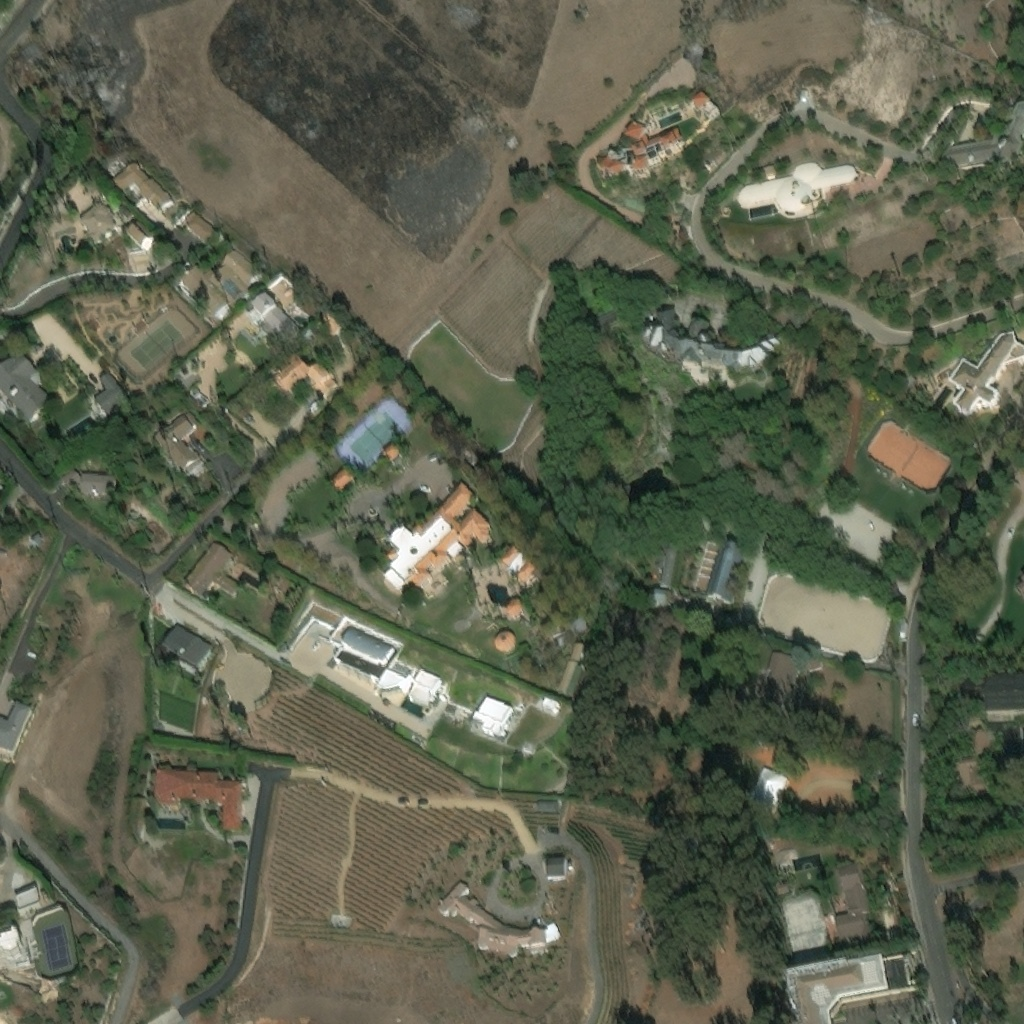0 no-damage: (648, 307, 812, 390), (388, 481, 493, 589), (437, 880, 561, 958), (786, 954, 921, 1023), (190, 533, 295, 613), (171, 246, 262, 328), (735, 161, 860, 220), (863, 414, 953, 492), (946, 329, 1023, 416), (100, 148, 174, 237), (154, 773, 249, 835), (938, 103, 1023, 169), (753, 644, 821, 717), (601, 124, 688, 181), (829, 858, 881, 944), (0, 355, 57, 429), (327, 612, 402, 667), (152, 409, 208, 479), (0, 678, 43, 765), (688, 532, 738, 598), (246, 292, 301, 345), (273, 358, 339, 400), (165, 626, 219, 676), (955, 729, 995, 796), (0, 915, 40, 974), (740, 760, 787, 810), (1002, 728, 1023, 827), (472, 697, 513, 739), (79, 202, 115, 248), (984, 676, 1023, 712), (406, 669, 440, 703), (374, 667, 408, 701), (184, 211, 218, 244), (127, 220, 157, 251), (555, 661, 580, 698), (768, 840, 796, 872), (671, 825, 699, 856), (649, 552, 674, 585), (385, 655, 416, 679), (81, 477, 116, 498), (145, 1003, 181, 1023), (329, 466, 355, 491), (496, 546, 520, 570), (544, 855, 569, 878), (506, 556, 529, 579), (382, 566, 405, 589), (0, 864, 14, 901), (14, 888, 41, 907), (626, 884, 656, 901), (515, 565, 537, 586), (382, 441, 403, 463), (60, 472, 82, 491), (534, 798, 561, 813), (692, 95, 712, 114), (569, 646, 587, 666), (540, 700, 560, 717), (117, 205, 135, 223), (507, 601, 523, 619), (774, 879, 793, 894), (652, 586, 667, 605)
